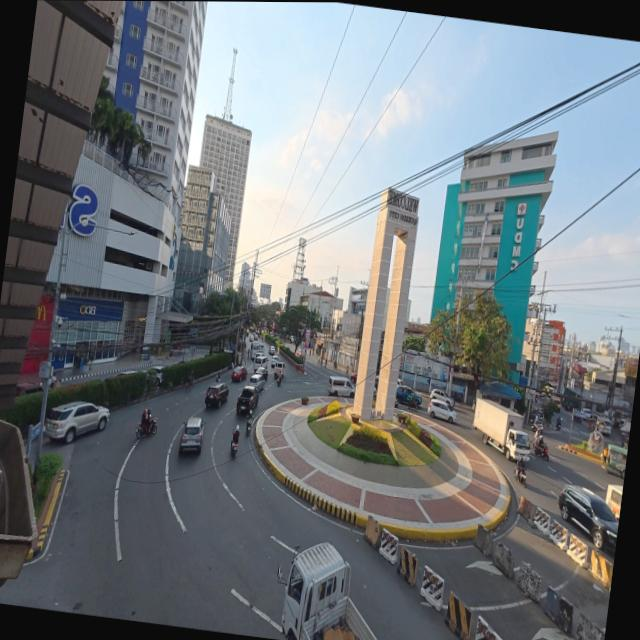Jeepneys: (604, 445, 627, 479)
car: (557, 485, 618, 552), (44, 402, 109, 444), (179, 415, 203, 453), (427, 399, 456, 423), (395, 386, 421, 408), (204, 384, 228, 407), (429, 389, 454, 408), (146, 365, 163, 385), (15, 382, 40, 395), (248, 374, 263, 391), (231, 367, 246, 381), (254, 366, 267, 381), (113, 370, 136, 377), (270, 355, 278, 368), (267, 346, 275, 356), (349, 373, 356, 384), (257, 342, 263, 353), (397, 378, 402, 385), (248, 334, 253, 341)
motorcycle: (136, 418, 156, 438), (533, 443, 548, 460), (514, 468, 525, 488), (245, 411, 252, 437), (230, 433, 237, 457), (530, 422, 542, 432), (230, 441, 237, 457), (245, 420, 251, 437), (184, 380, 192, 391), (555, 418, 560, 430), (276, 375, 281, 386), (215, 373, 220, 383), (333, 360, 336, 370)
trucks: (277, 543, 375, 639), (472, 399, 529, 461), (235, 385, 257, 415)
vans: (327, 376, 354, 398), (605, 485, 622, 519), (253, 354, 267, 372), (595, 419, 610, 435), (273, 361, 284, 377)
